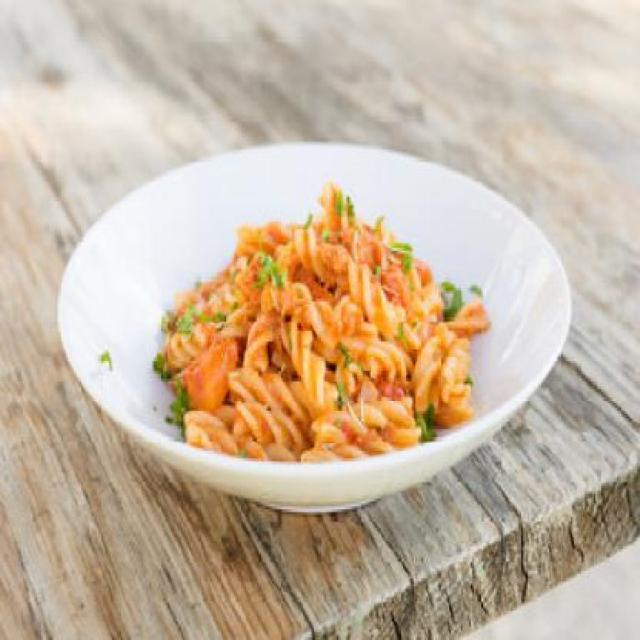Pasta al ragu: (112, 173, 536, 536)
